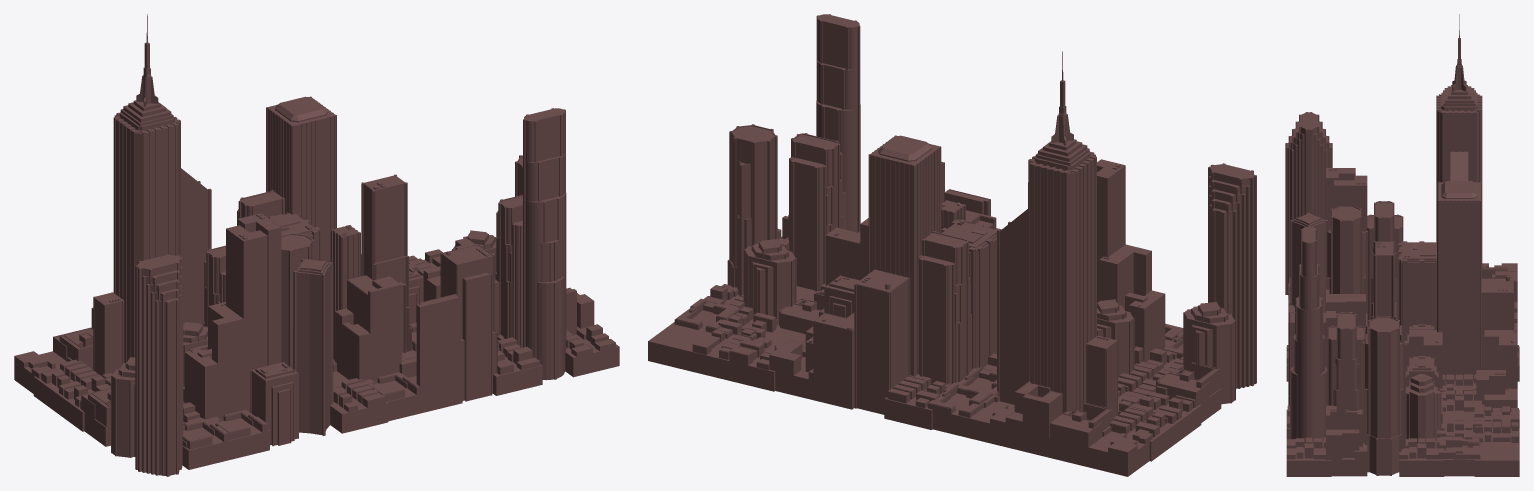
3 renders of one model, left to right at view 1: azimuth 30°, elevation 25°; view 2: azimuth 150°, elevation 25°; view 3: azimuth 270°, elevation 25°, orthographic. The views are drawn at different scales.
Visible parts, largest first — view 1: Mograph_City_Rig.1; view 2: Mograph_City_Rig.1; view 3: Mograph_City_Rig.1.
Part boxes in pixels (x1,y1,x2,y2): Mograph_City_Rig.1: [14, 14, 619, 476]; Mograph_City_Rig.1: [648, 14, 1256, 476]; Mograph_City_Rig.1: [1285, 14, 1519, 476].
Size of the model in its own units: 6106 by 4554 by 3115.
